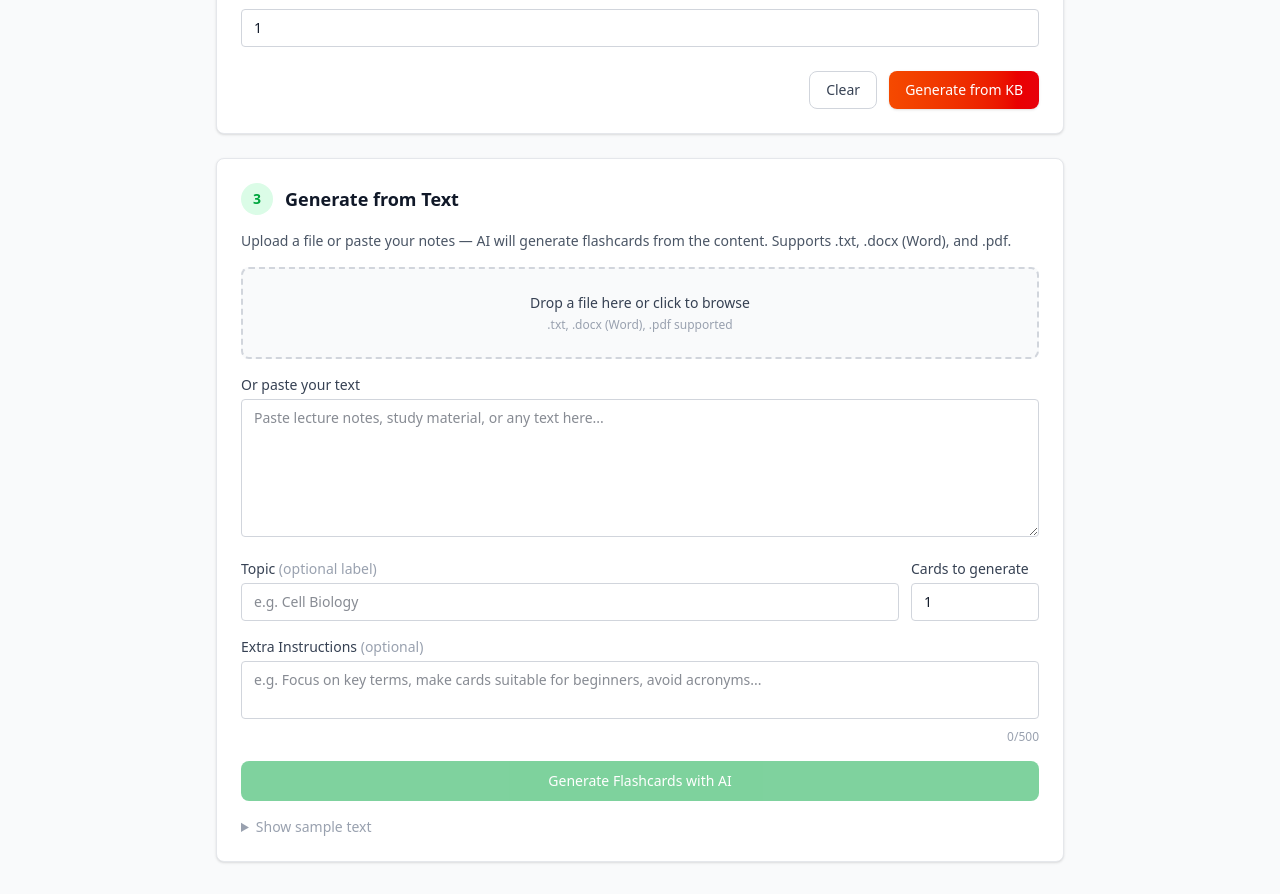
Test: CreateCardPage — generate from text › Discard All closes review modal
(page scrolled)
Step 1. Type "Some notes" into the text box with placeholder "Paste lecture notes, study material, or any text here..." → (640, 468), box 241,399 -> 1039,537
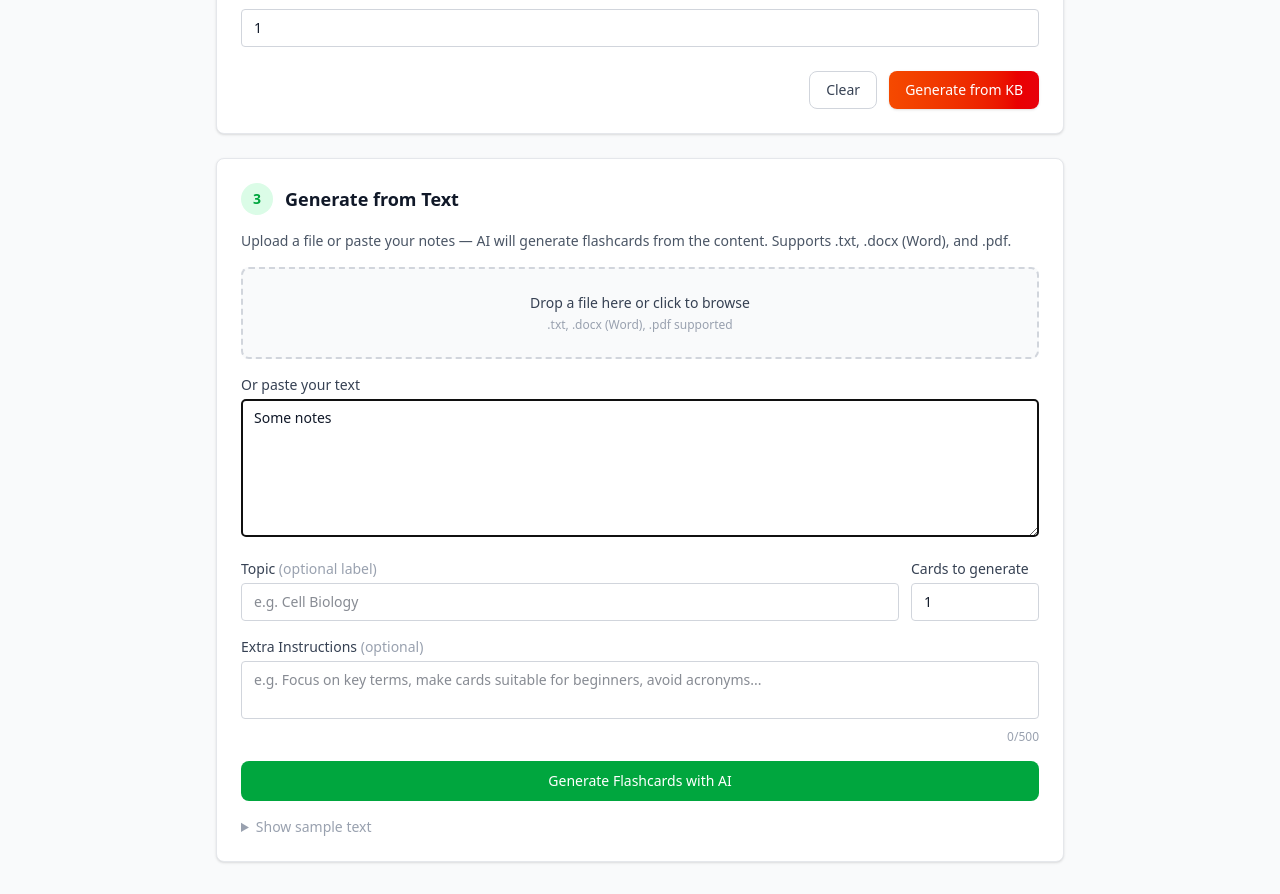
Step 2. Click the button "Generate Flashcards with AI" → (640, 781), box 241,761 -> 1039,801
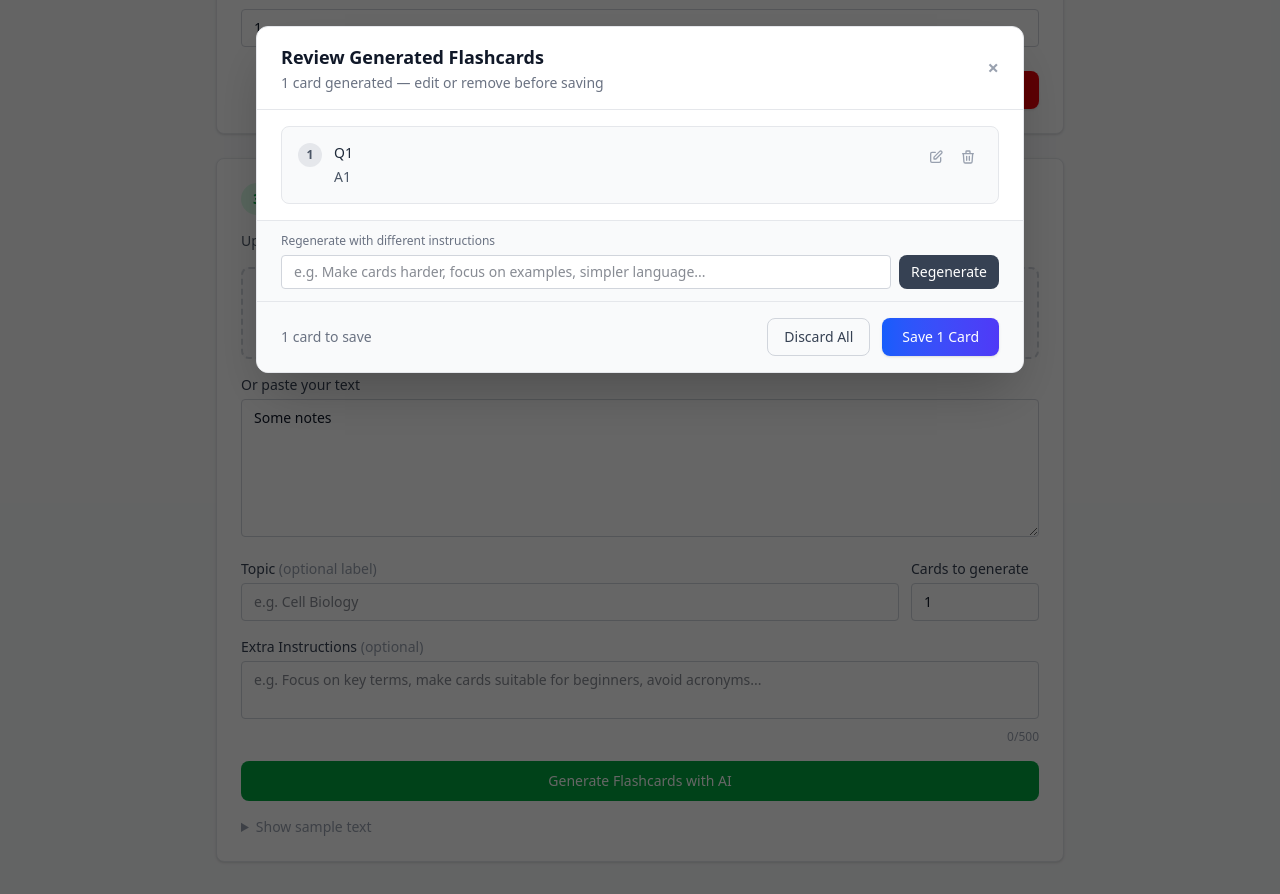
expect the heading "Review Generated Flashcards" is shown: met, box 281,45 -> 544,69
Step 3. Click the button "Discard All" → (819, 337), box 767,318 -> 870,356
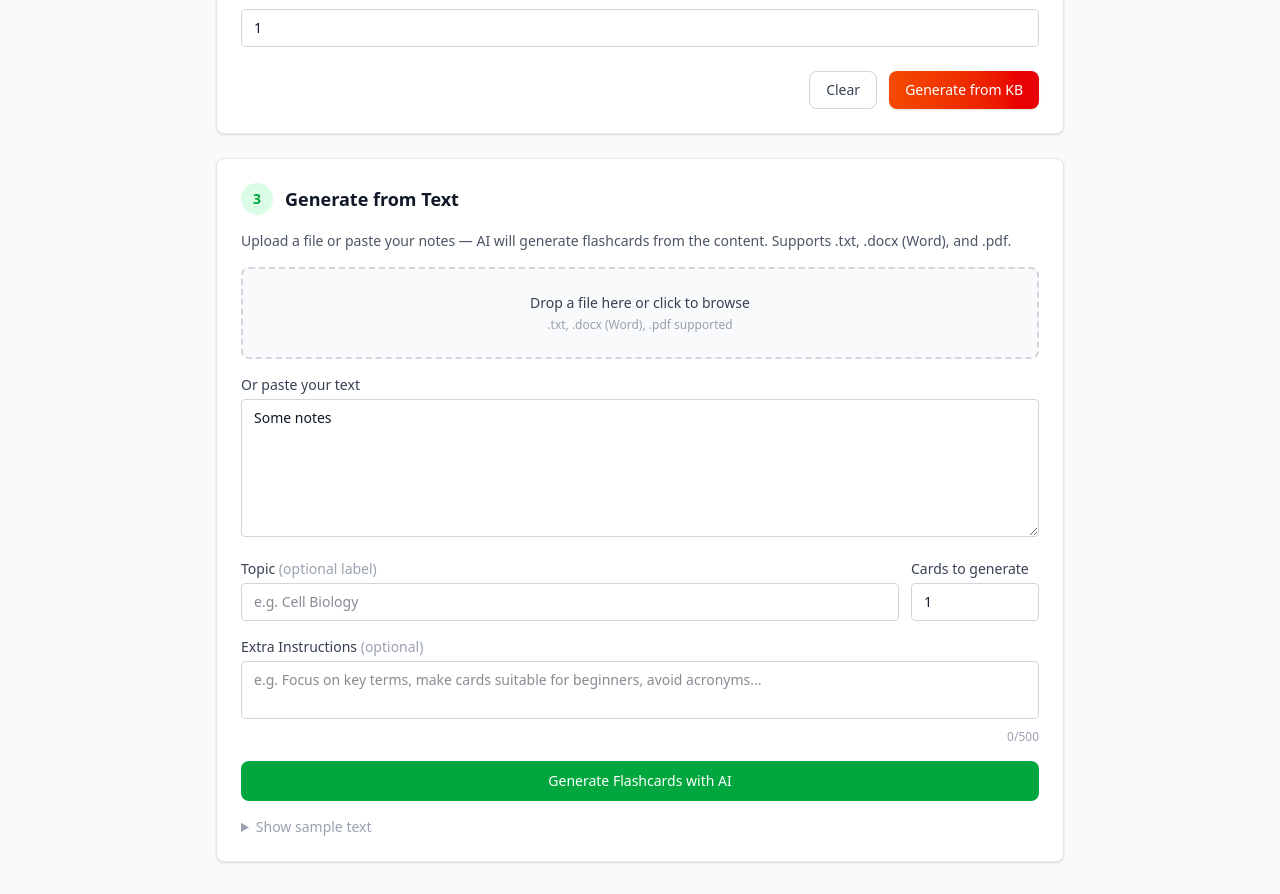
expect the heading "Review Generated Flashcards" is gone: met
